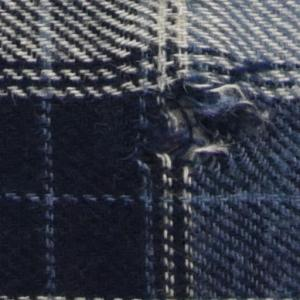Damage: (123, 45, 285, 193)
